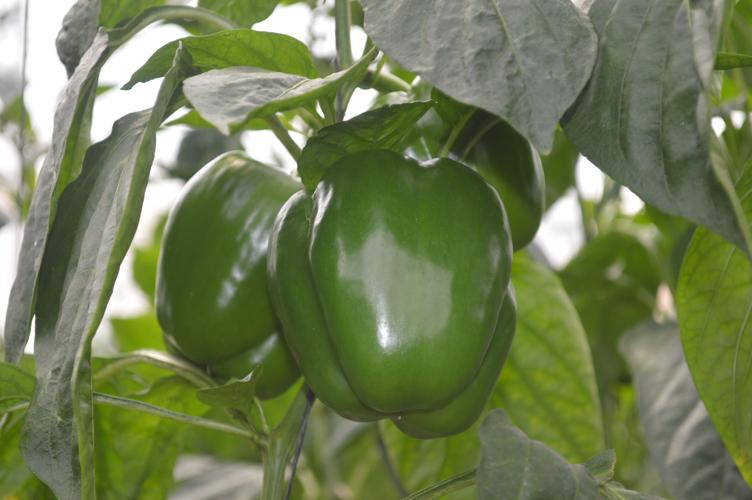BellPepper: (267, 152, 515, 438), (152, 151, 292, 397), (447, 128, 550, 251)
